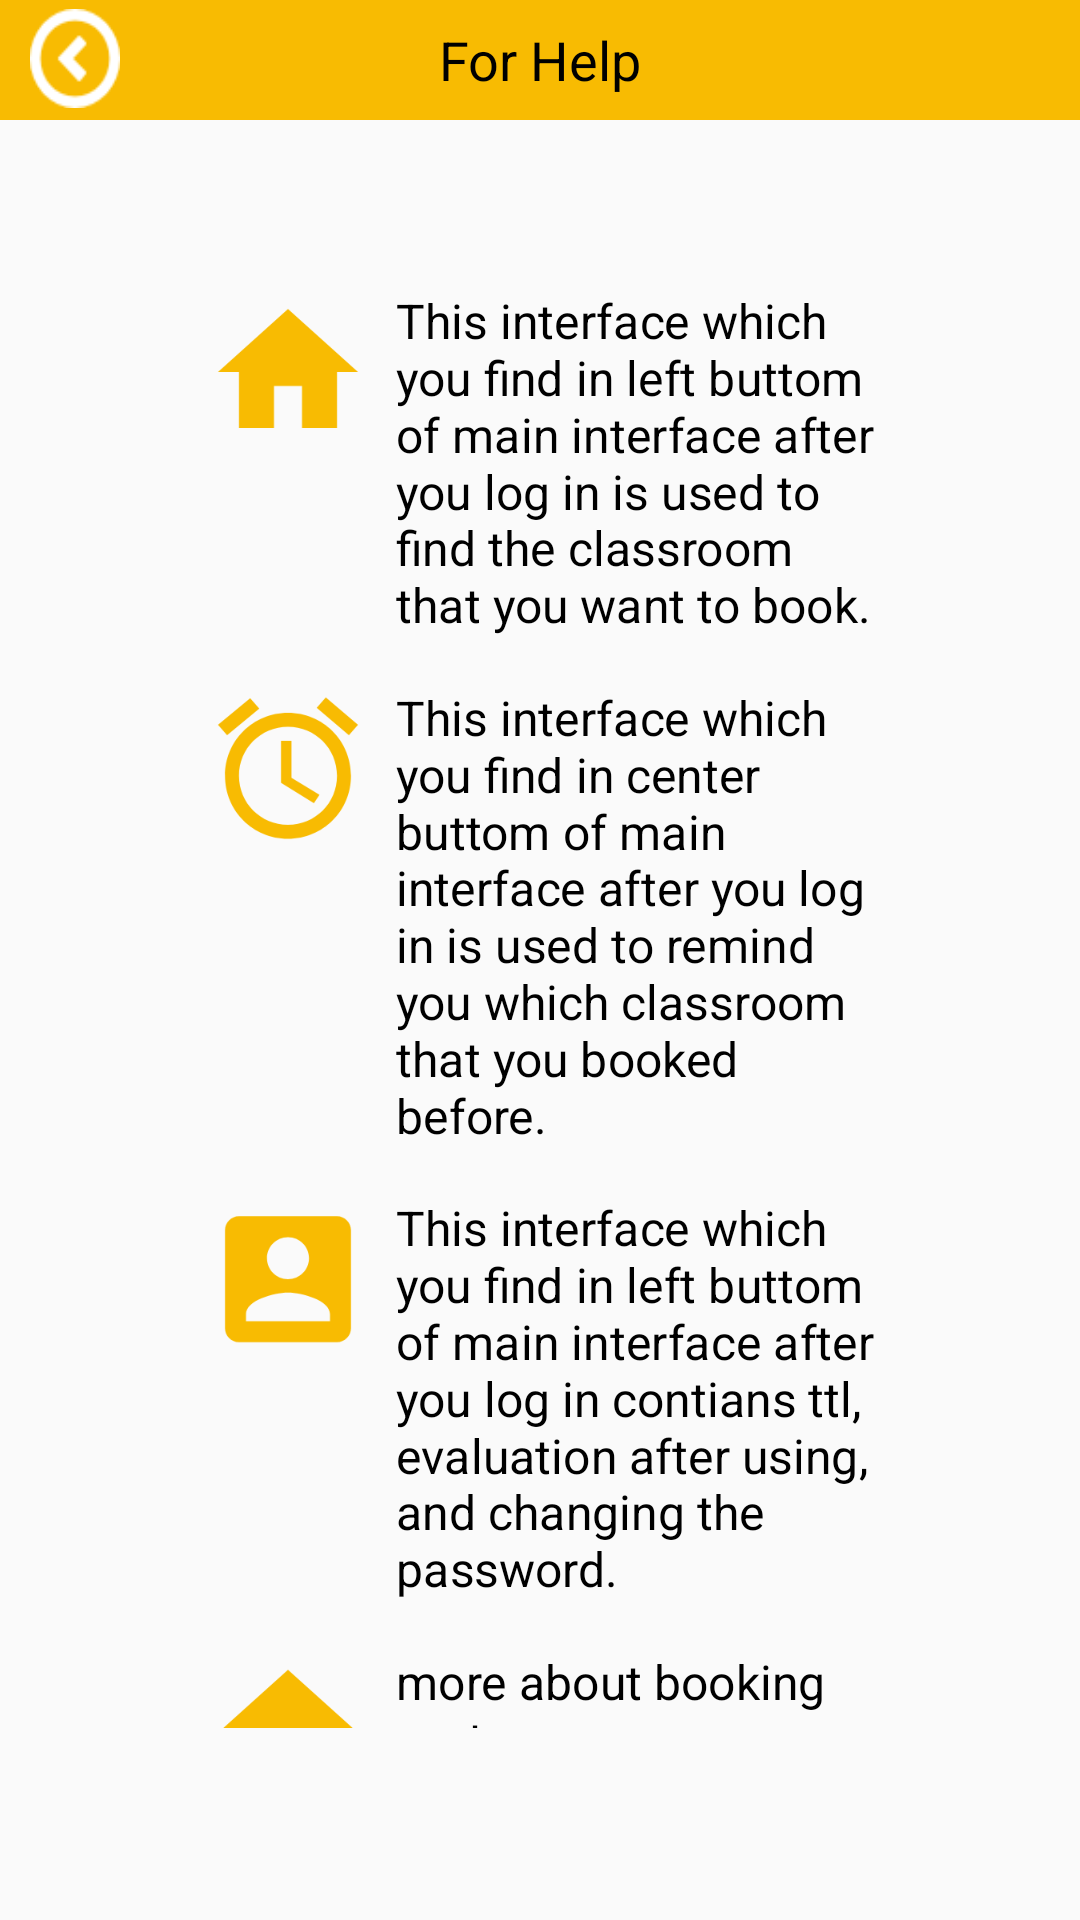

Where to tap for icons on this 1080x1920 app screen, as (x,y):
go back: (75,58)
